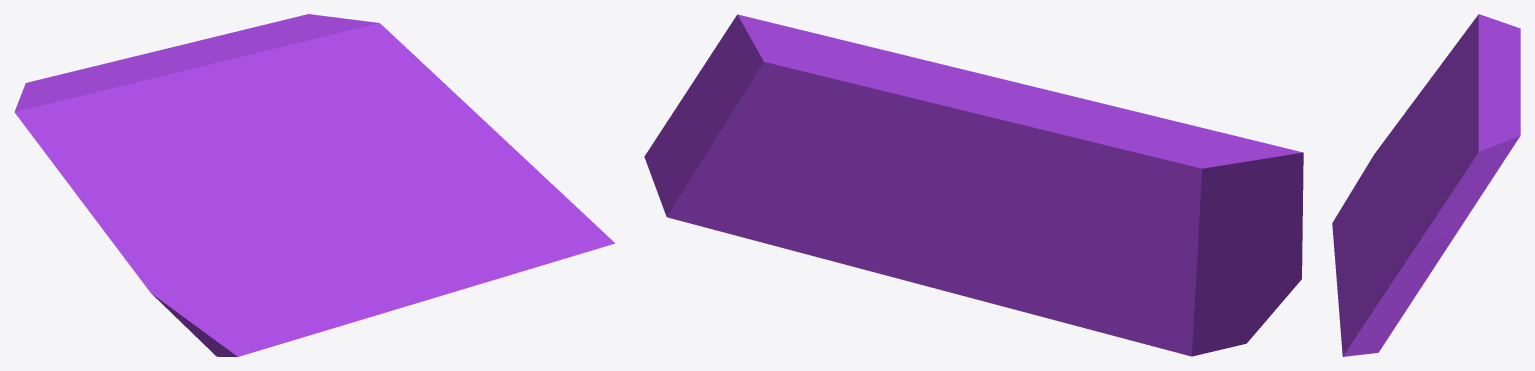
The model's file is Window_132_3_chunks.fbx.
The picture shows the model from 3 angles, left to right: view 1: azimuth 30°, elevation 25°; view 2: azimuth 150°, elevation 25°; view 3: azimuth 270°, elevation 25°; orthographic projection. The views are drawn at different scales.
Visible parts, largest first — view 1: Window_132_3_2, Window_132_3_0, Window_132_3_6, Window_132_3_5, Window_132_3_8, Window_132_3_9, Window_132_3_3, Window_132_3_4, Window_132_3_1, Window_132_3_7; view 2: Window_132_3_4, Window_132_3_2, Window_132_3_1, Window_132_3_7, Window_132_3_6, Window_132_3_9, Window_132_3_3, Window_132_3_8, Window_132_3_5; view 3: Window_132_3_2, Window_132_3_6, Window_132_3_4, Window_132_3_0, Window_132_3_5, Window_132_3_9, Window_132_3_8, Window_132_3_3, Window_132_3_1, Window_132_3_7.
Part boxes in pixels (<box>): Window_132_3_2: <box>383,126,615,301</box>; Window_132_3_0: <box>192,186,421,351</box>; Window_132_3_6: <box>14,38,240,168</box>; Window_132_3_5: <box>323,34,489,192</box>; Window_132_3_8: <box>82,158,258,274</box>; Window_132_3_9: <box>208,24,287,203</box>; Window_132_3_3: <box>283,114,393,278</box>; Window_132_3_4: <box>267,14,390,131</box>; Window_132_3_1: <box>137,252,256,356</box>; Window_132_3_7: <box>18,77,134,200</box>; Window_132_3_4: <box>713,14,949,203</box>; Window_132_3_2: <box>644,81,962,295</box>; Window_132_3_1: <box>961,228,1301,356</box>; Window_132_3_7: <box>1044,158,1303,274</box>; Window_132_3_6: <box>920,67,1303,179</box>; Window_132_3_9: <box>828,49,1091,251</box>; Window_132_3_3: <box>875,180,1006,292</box>; Window_132_3_8: <box>1082,215,1302,286</box>; Window_132_3_5: <box>694,21,732,116</box>; Window_132_3_2: <box>1337,224,1450,356</box>; Window_132_3_6: <box>1433,14,1520,126</box>; Window_132_3_4: <box>1432,117,1520,241</box>; Window_132_3_0: <box>1332,157,1409,287</box>; Window_132_3_5: <box>1395,162,1471,247</box>; Window_132_3_9: <box>1405,97,1520,173</box>; Window_132_3_8: <box>1384,84,1436,168</box>; Window_132_3_3: <box>1352,145,1445,264</box>; Window_132_3_1: <box>1332,141,1388,229</box>; Window_132_3_7: <box>1427,19,1520,94</box>.
Bounding box in the file's own units: 962 × 390 × 395.
